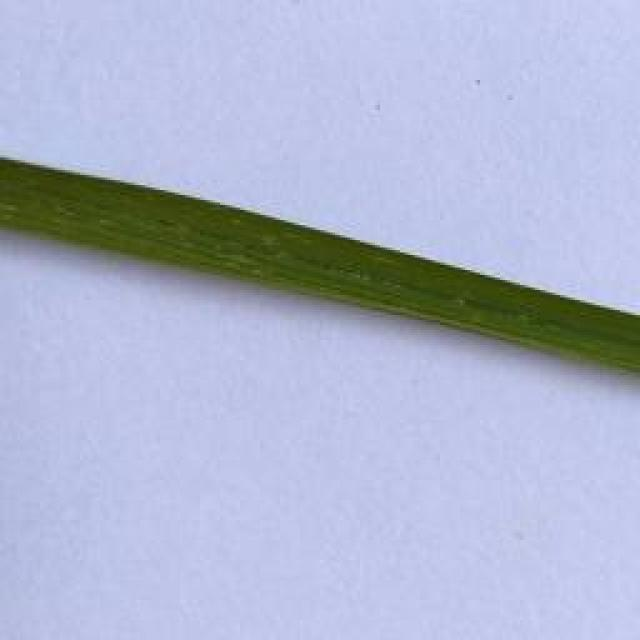Healthy-Plant: (0, 148, 640, 372)
